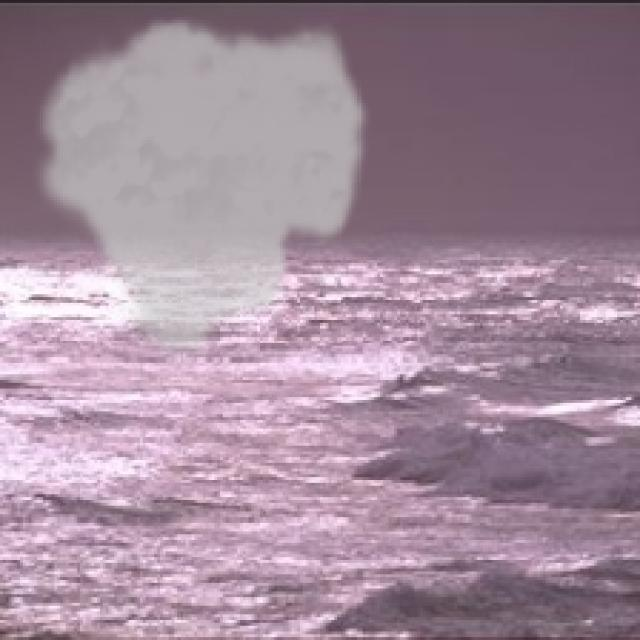smoke: (29, 14, 372, 366)
